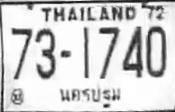0: (145, 26, 166, 76)
1: (82, 27, 90, 78)
3: (34, 28, 55, 78)
4: (121, 25, 142, 77)
7: (10, 27, 32, 79), (98, 26, 119, 78)
NPT: (56, 84, 123, 104)
